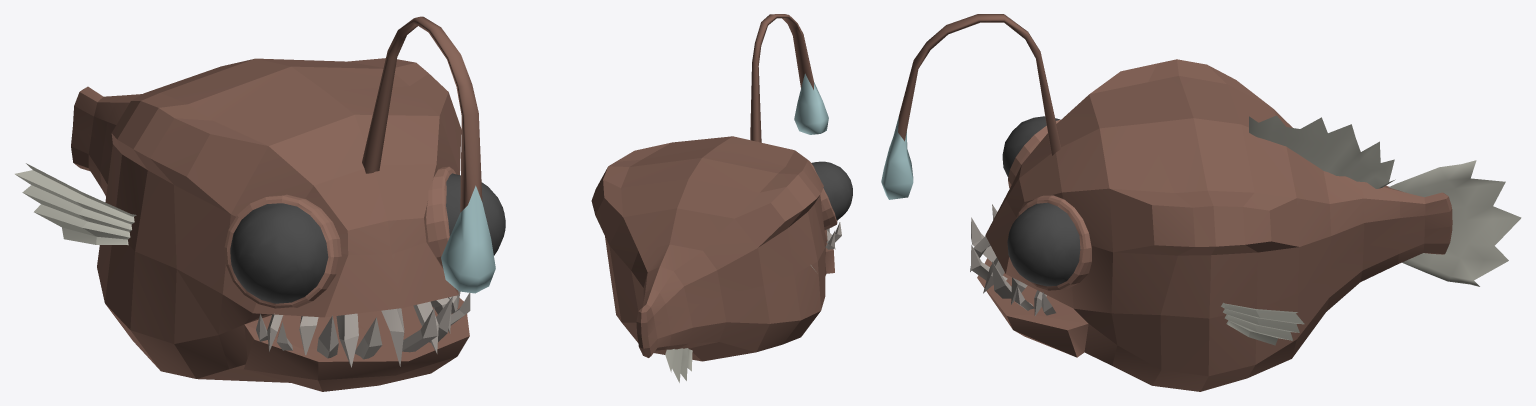
Rendered from anglerfish.glb.
3 views of the same model, side by side, from view 1: azimuth 30°, elevation 25°; view 2: azimuth 150°, elevation 25°; view 3: azimuth 270°, elevation 25° (orthographic). The views are drawn at different scales.
Size of the model in its own units: 0.6765 by 0.6106 by 1.
